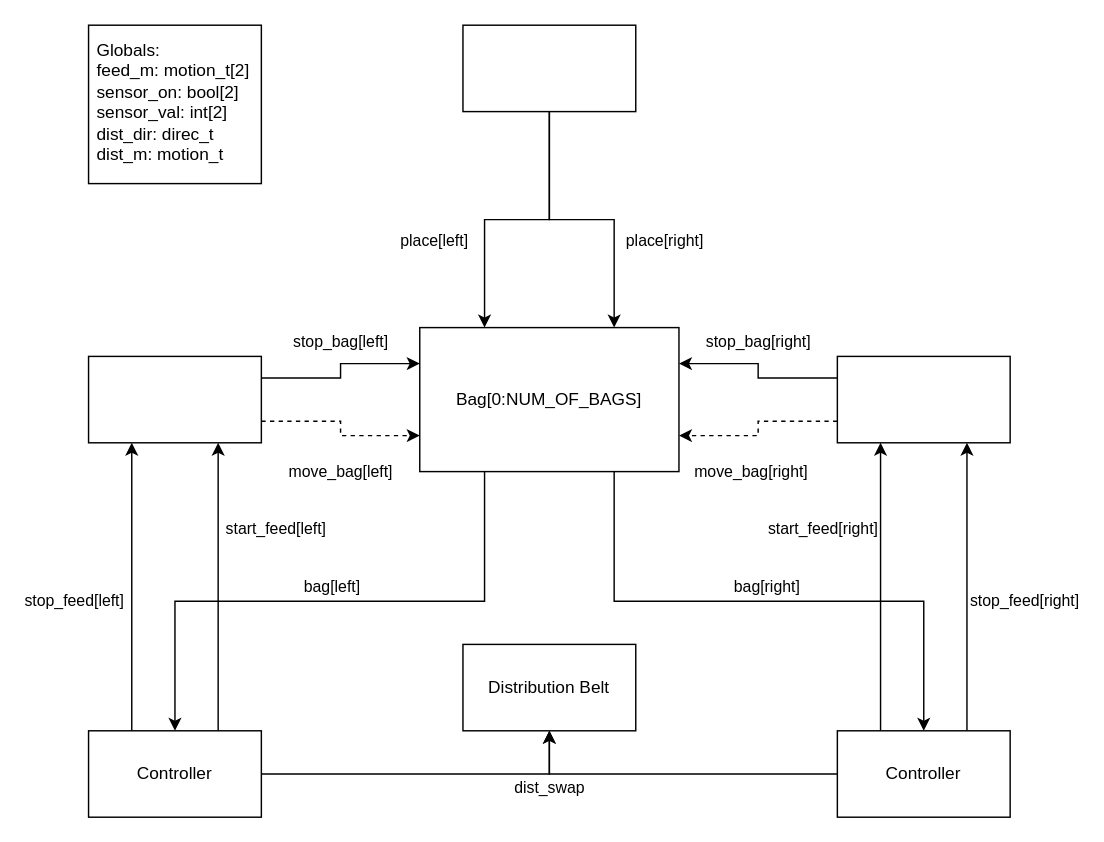
This 1104x842 diagram has some shape labels left out. Each missing label, with the centre of its shape:
"Dropper" goes at point 549,68.
"Feed Belt[left]" goes at point 174,399.
"Feed Belt[right]" goes at point 923,399.
